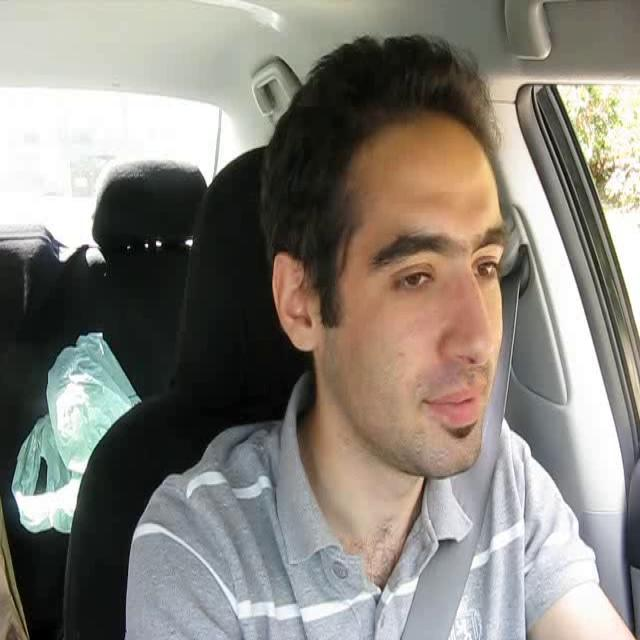close: (424, 377, 491, 430)
